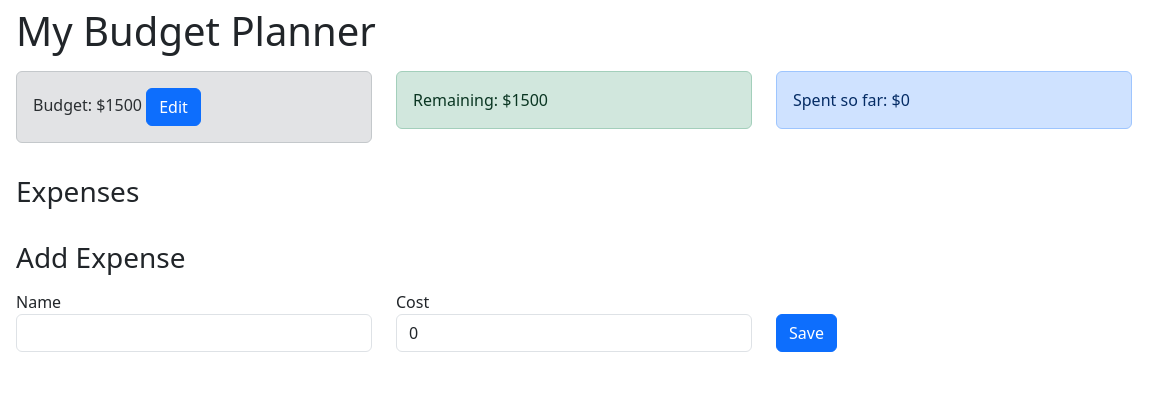
Test: Delete an Expense
In the field labelled "Name": (194, 333) [16,314,372,352], type "Testing"
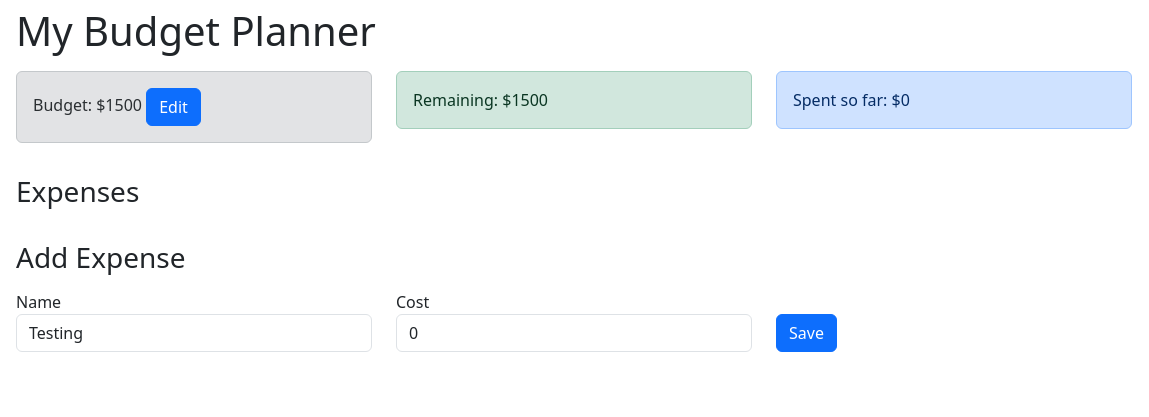
Replace the text in the field labelled "Cost" with "100": (574, 333) [396,314,752,352]
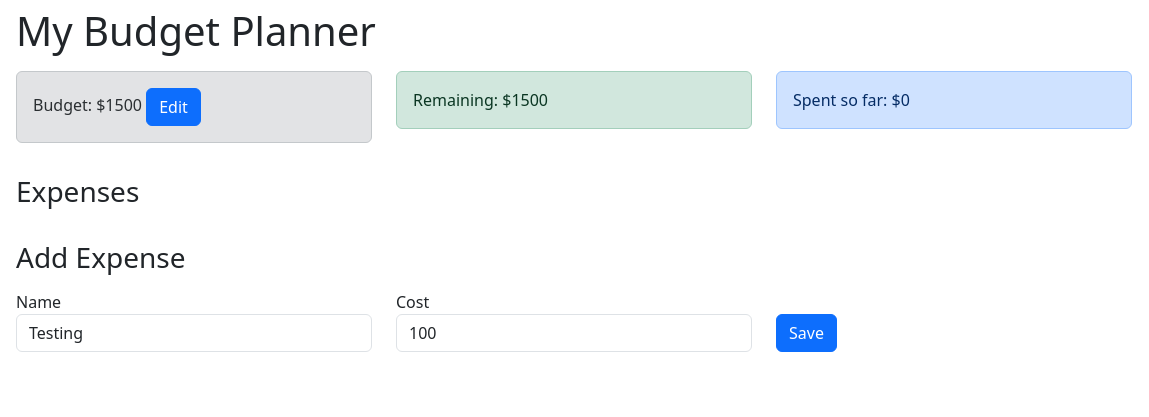
Click the button "Save": (806, 333) [776,314,837,352]
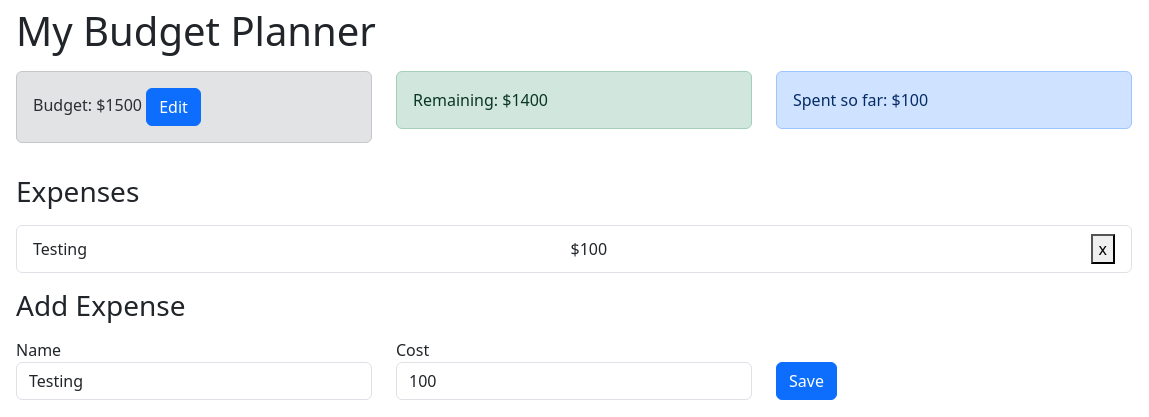
Click the button "x": (1103, 249) [1090,234,1115,264]
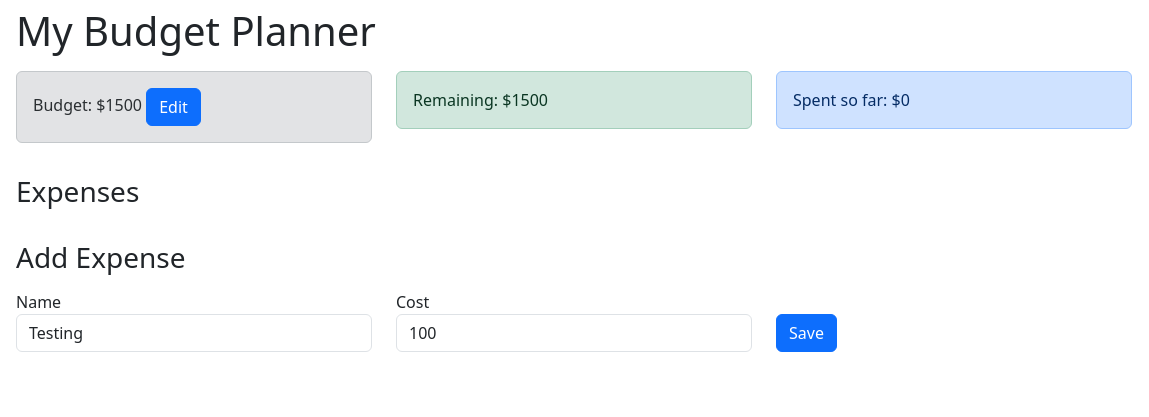
Check: the text "$100" is gone
Check: the text "Remaining: $1500" is shown, box [413,89,548,111]
Check: the text "Spent so far: $0" is shown, box [793,89,910,111]
